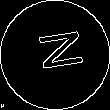N_W: (27, 32, 83, 78)
